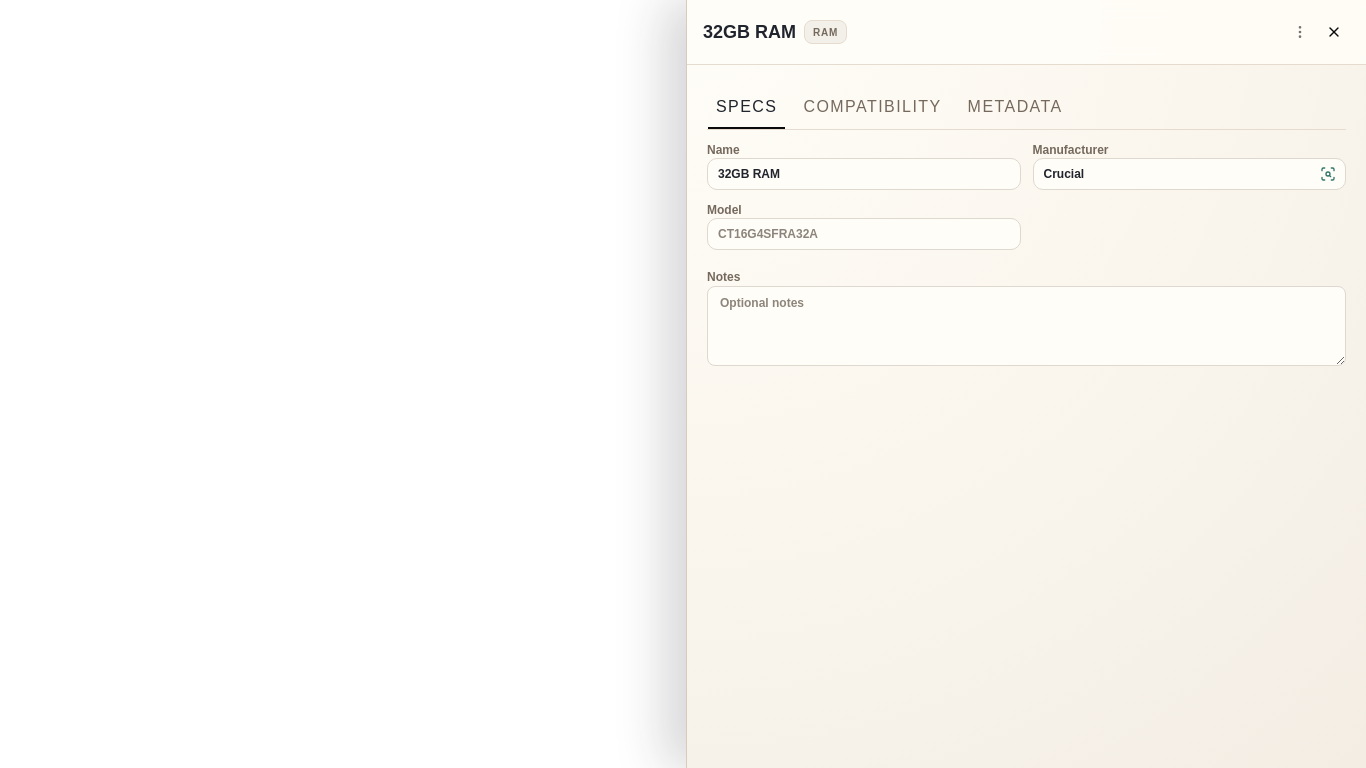
InspectorPanel › reviews an agent-detected replacement before saving it through the item editor
Click the button named "Use detected Manufacturer": (1328, 174) [1314,160,1342,188]
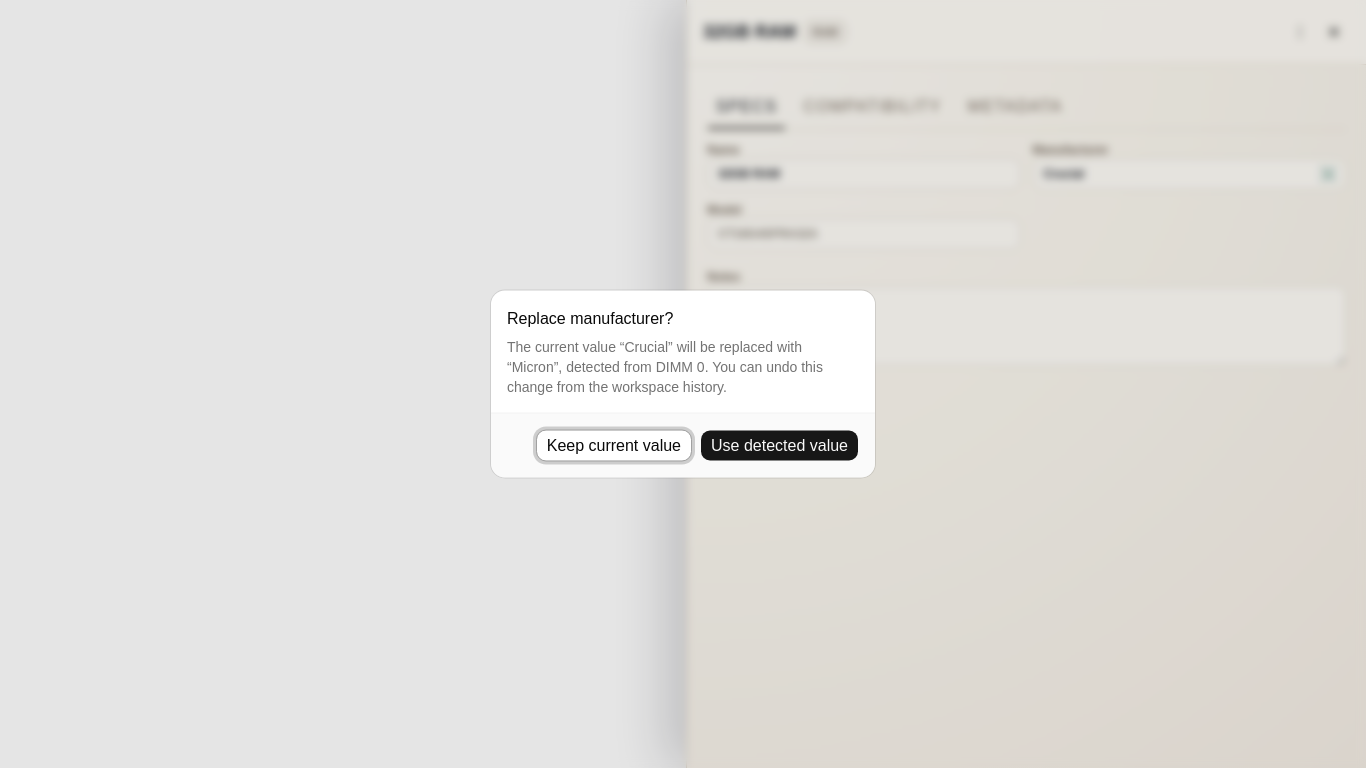
Result: the dialog shows "The current value “Crucial” will be replaced" at [491,290,875,478]
Result: the dialog shows "DIMM 0" at [656,358,705,374]
Click the button "Use detected value": (780, 446) [700,430,859,462]
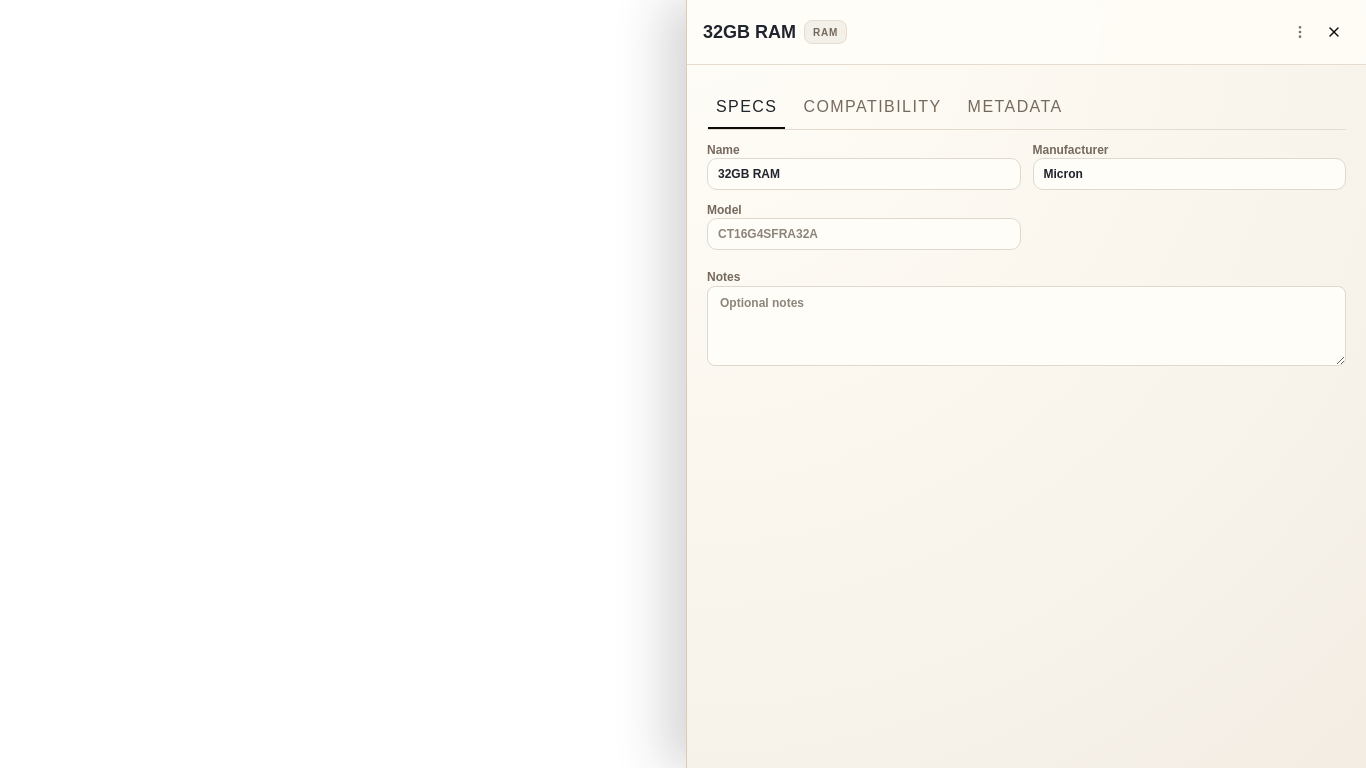
Result: the field labelled "Manufacturer" holds "Micron"
Replace the text in the field labelled "Manufacturer" with "Samsung": (1189, 174) [1032,158,1346,190]
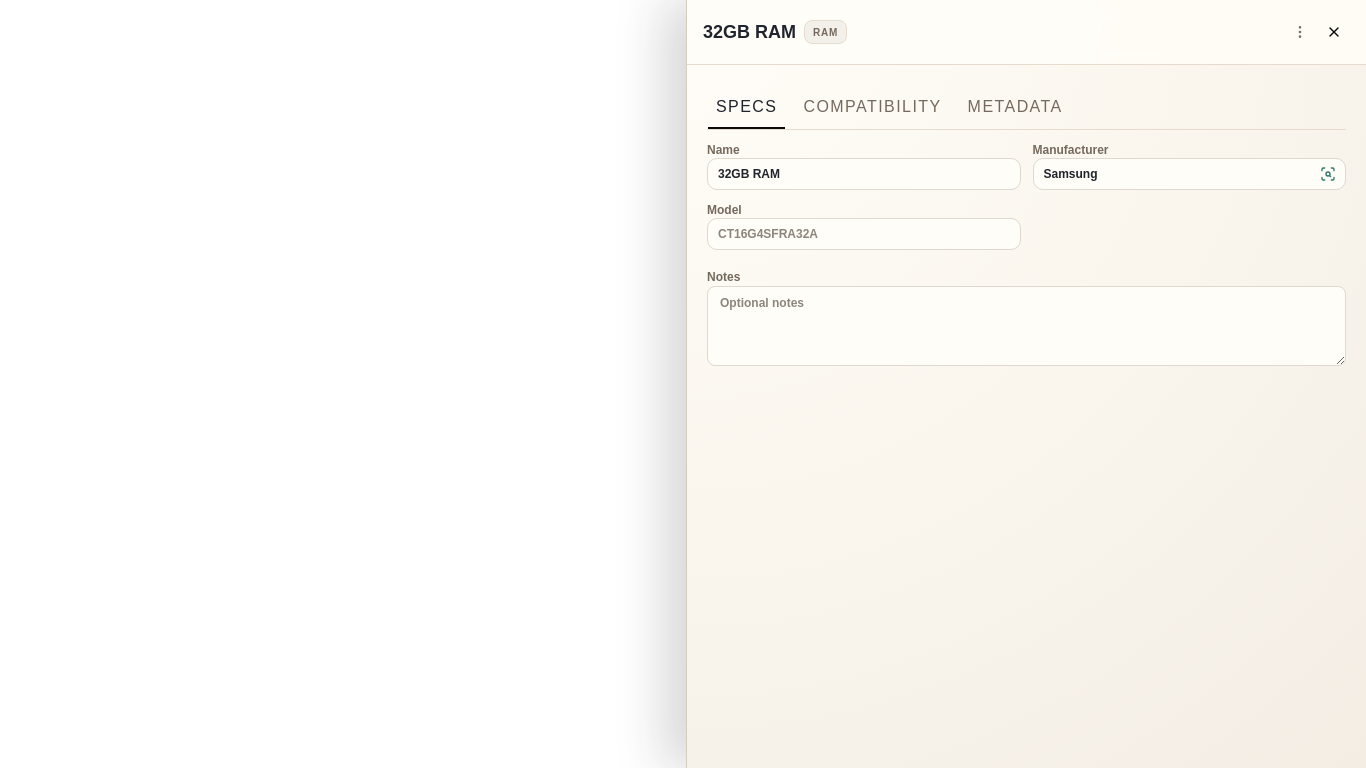
Result: the button named "Use detected Manufacturer" is shown at [1314,160,1342,188]
